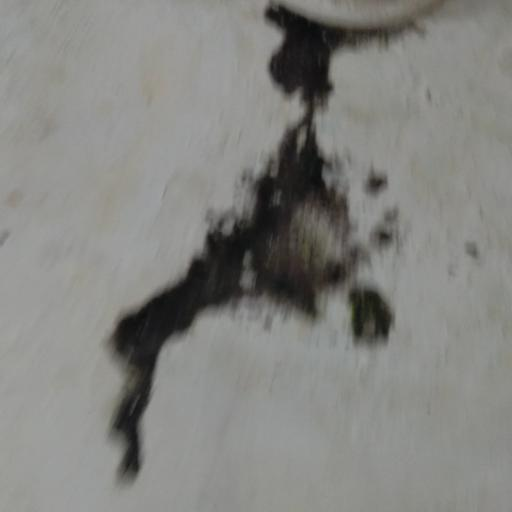algae: (93, 9, 435, 500)
